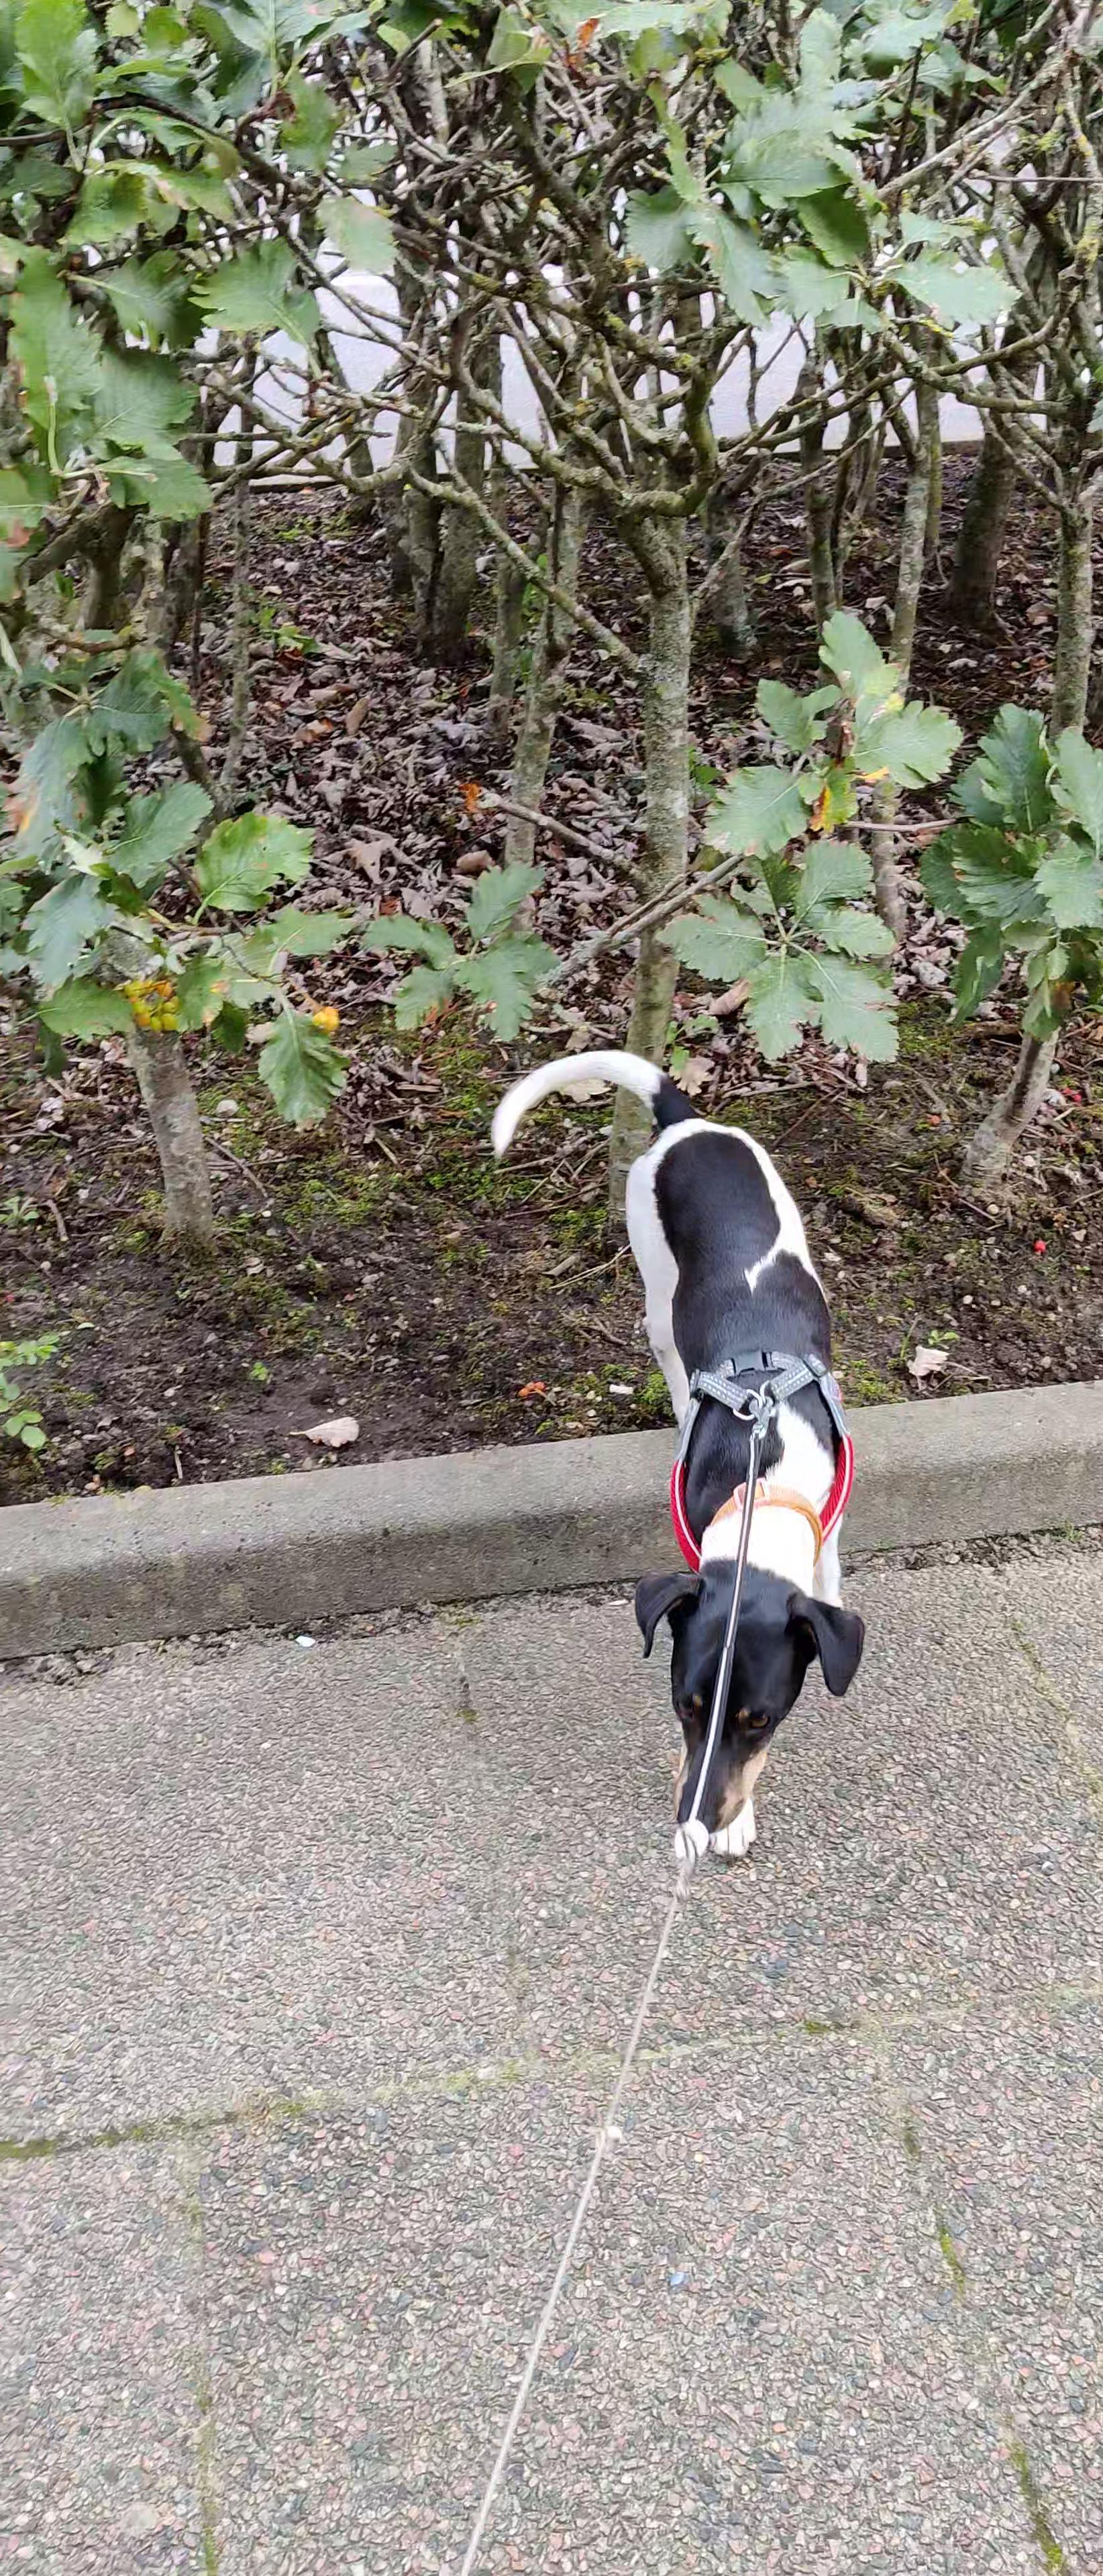Dog: (460, 1010, 899, 1874)
